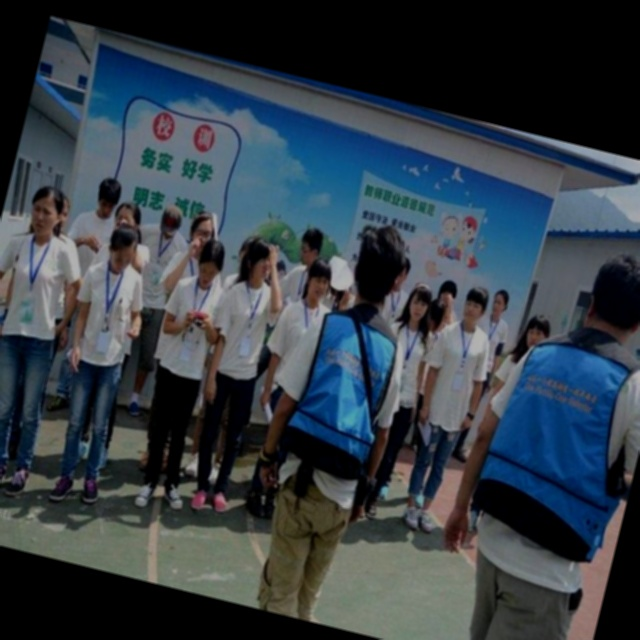Sin_Casco_Mascarrilla: (580, 244, 640, 352), (347, 220, 414, 312), (21, 182, 68, 241)
